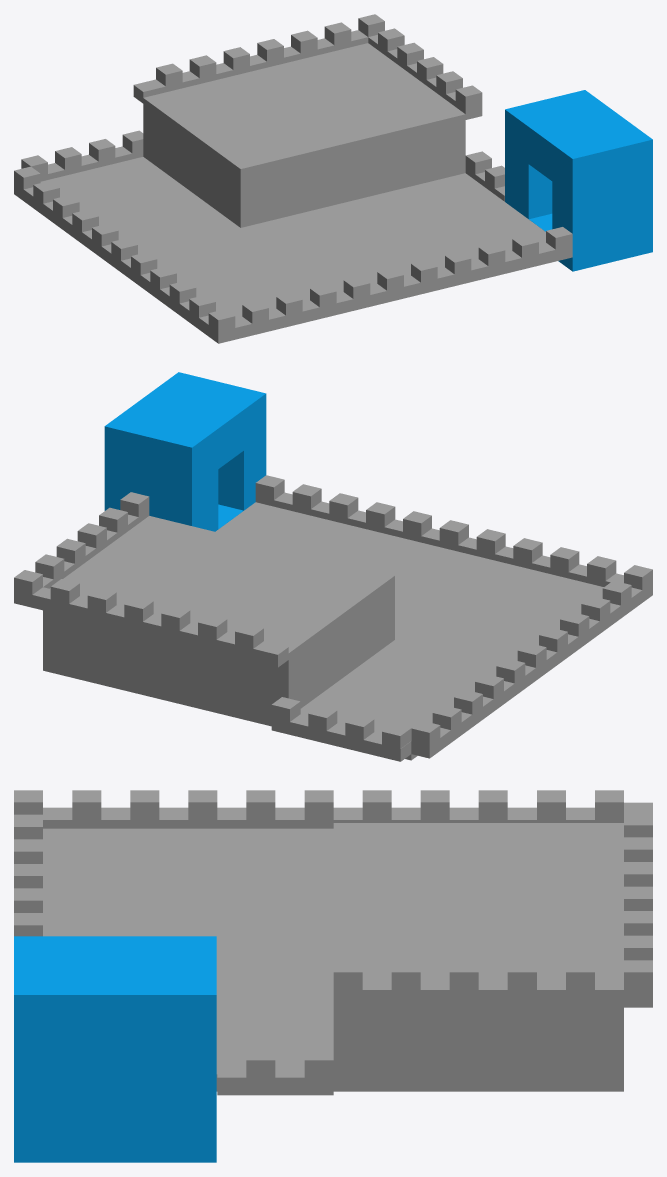
File: TutorialStage_Ground3.fbx
The picture shows the model from 3 angles, top to bottom: view 1: azimuth 30°, elevation 25°; view 2: azimuth 150°, elevation 25°; view 3: azimuth 270°, elevation 25°; orthographic projection. The views are drawn at different scales.
Parts seen in each view (by area): view 1: Ground, Wall2, Wall3; view 2: Ground, Wall2, Wall3; view 3: Ground, Wall3, Wall2.
Part boxes in pixels (x1,y1,x2,y2): Ground: (40, 43, 545, 318); Wall2: (14, 14, 572, 343); Wall3: (505, 90, 652, 271); Ground: (43, 502, 603, 760); Wall2: (14, 475, 652, 761); Wall3: (104, 372, 266, 531); Ground: (43, 823, 623, 1091); Wall3: (14, 936, 216, 1162); Wall2: (14, 790, 652, 1095).
Size of the model in its own units: 3864 by 957 by 3301.
